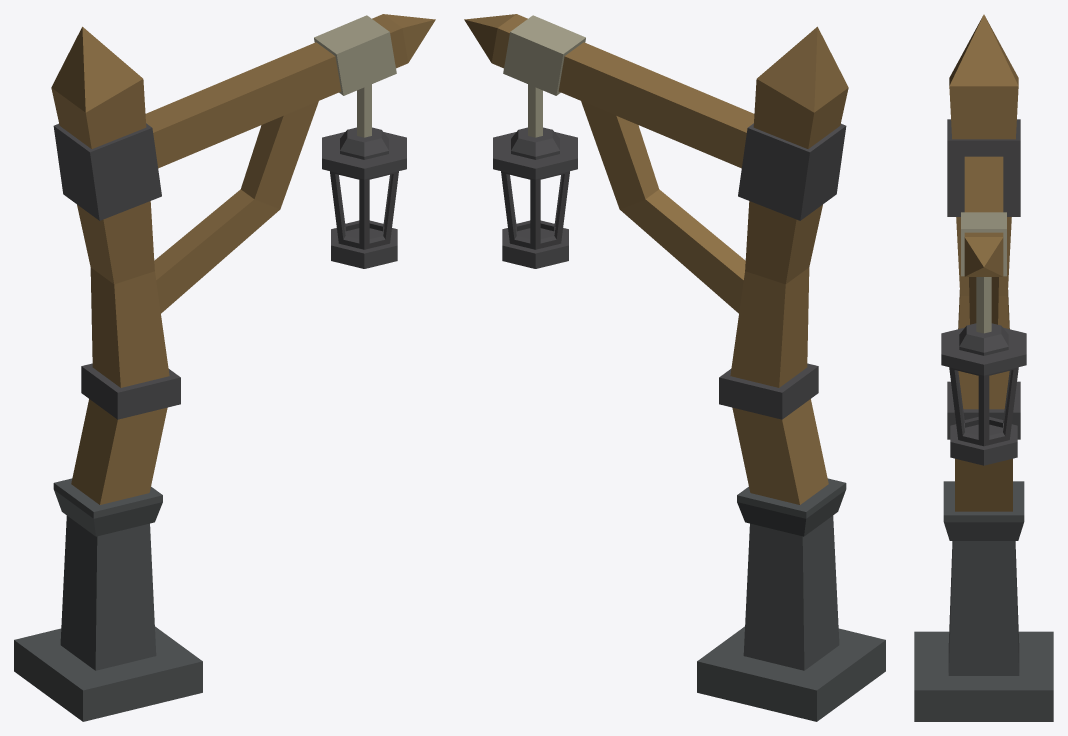
The model's file is Lamp4_General.fbx.
3 renders of one model, left to right at view 1: azimuth 30°, elevation 25°; view 2: azimuth 150°, elevation 25°; view 3: azimuth 270°, elevation 25°, orthographic.
Parts seen in each view (by area): view 1: Cube.001; view 2: Cube.001; view 3: Cube.001.
Part boxes in pixels (x1=…): Cube.001: x1=14, y1=14, x2=435, y2=721; Cube.001: x1=464, y1=14, x2=885, y2=721; Cube.001: x1=914, y1=14, x2=1053, y2=721.
Bounding box in the file's own units: 171 × 279 × 52.85.
